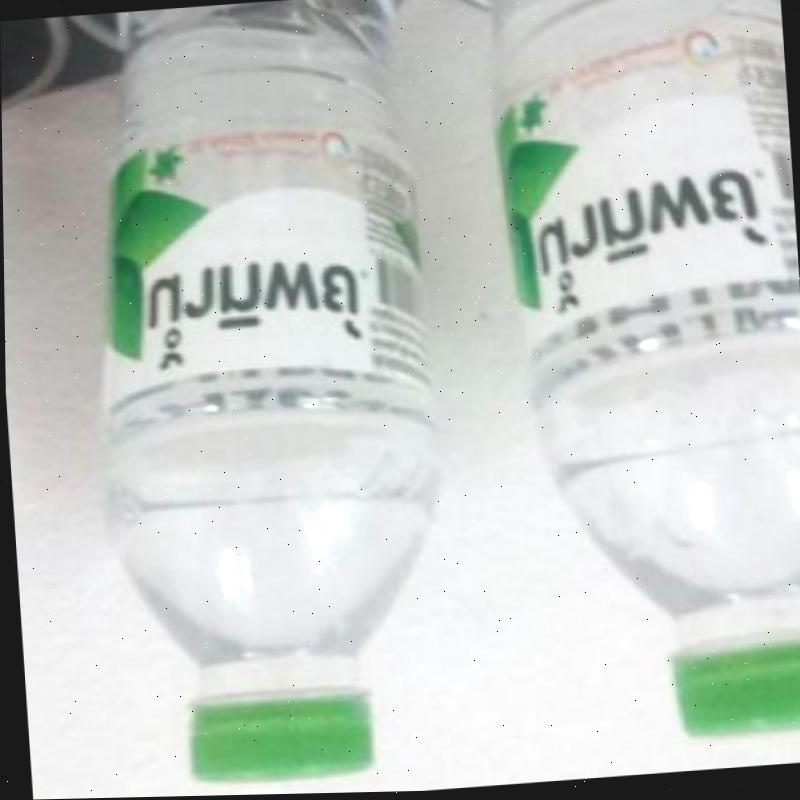botella: (69, 0, 457, 796), (485, 0, 800, 755)
